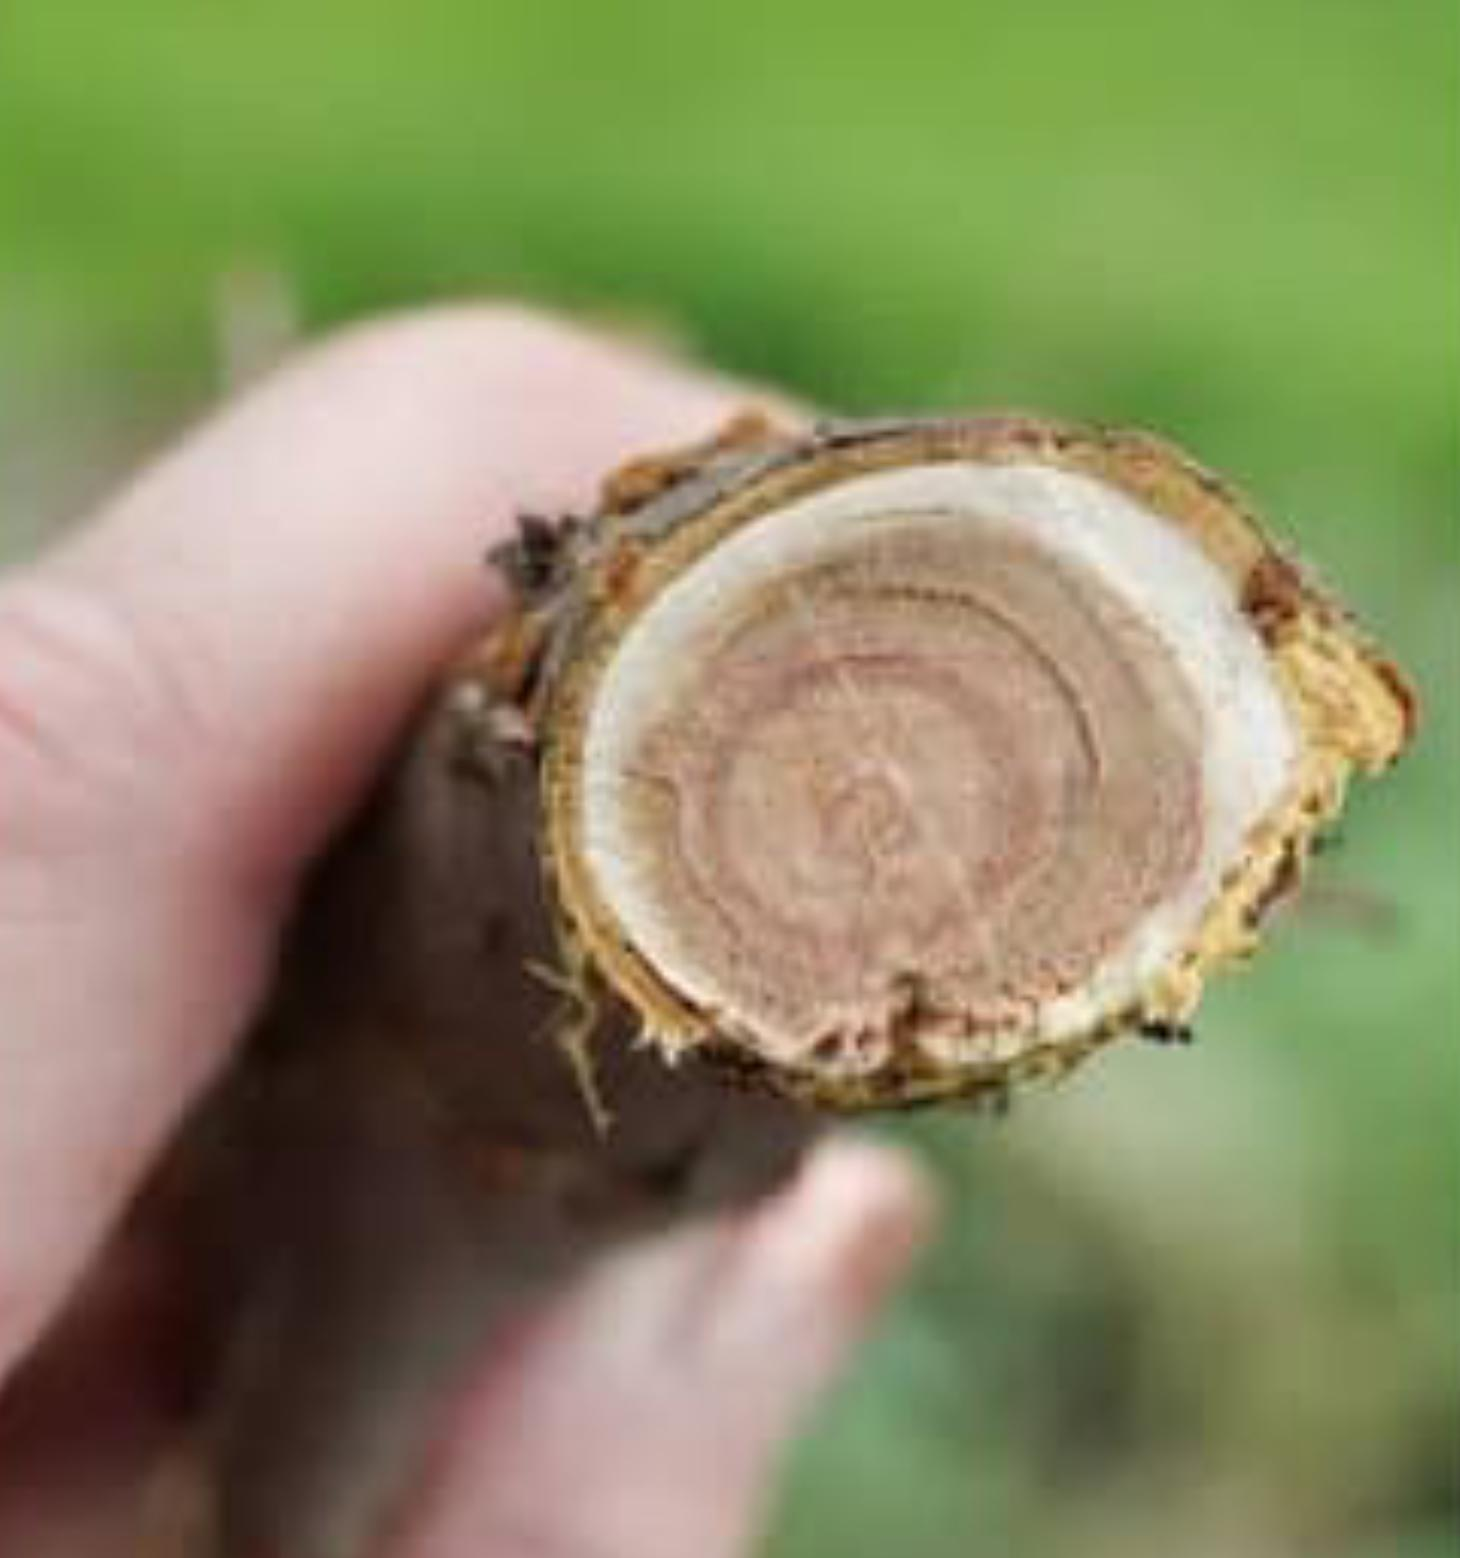Verticillium wilt: (589, 500, 1218, 1057)
